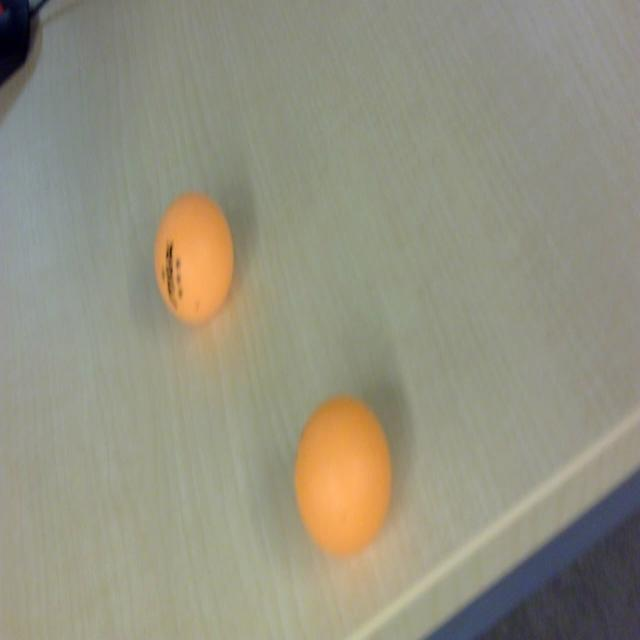ball: (294, 394, 394, 559), (154, 190, 235, 332)
